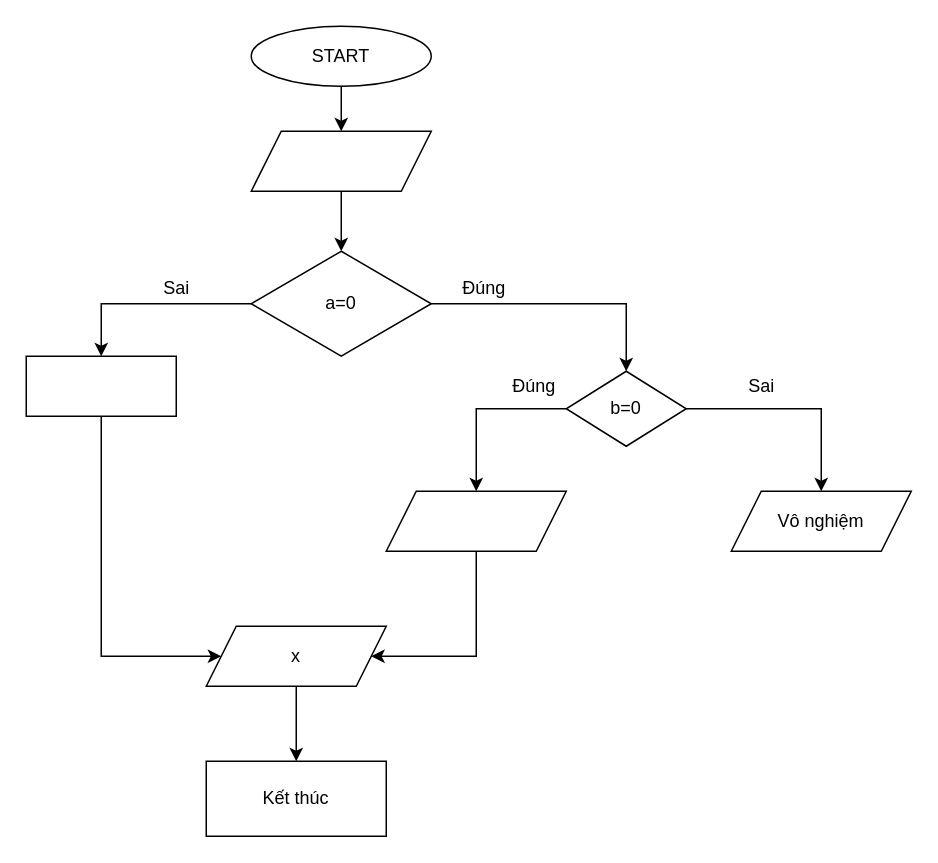
The diagram is 938 pixels wide and 863 high, and some of its shapes have lost their labels. Each missing label, with the centre of its shape:
a,b: point 340,160
Vô số nghiệm: point 475,520
x=-b/a: point 100,385
